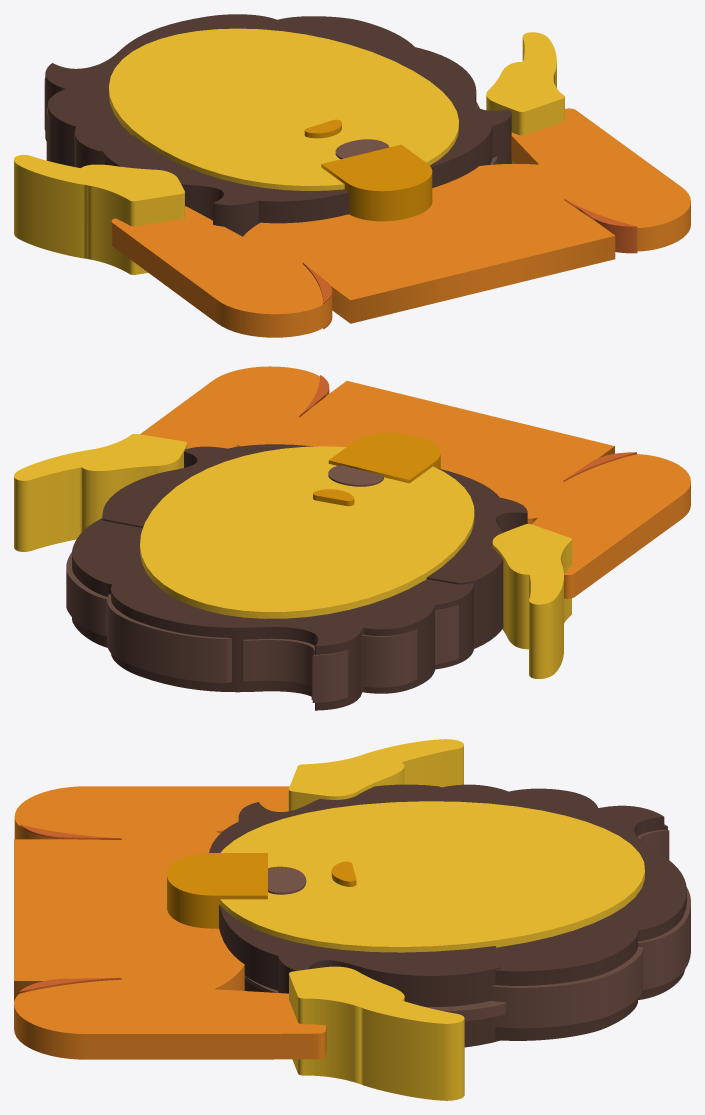
The model's file is emoji_u1f937.glb.
3 views of the same model, one above another, from view 1: azimuth 30°, elevation 25°; view 2: azimuth 150°, elevation 25°; view 3: azimuth 270°, elevation 25° (orthographic). The views are drawn at different scales.
Parts seen in each view (by area): view 1: emoji_u1f937; view 2: emoji_u1f937; view 3: emoji_u1f937.
Part boxes in pixels (left/top/right/bottom): emoji_u1f937: left=14, top=14, right=690, bottom=337; emoji_u1f937: left=14, top=366, right=690, bottom=710; emoji_u1f937: left=14, top=739, right=690, bottom=1100.
Size of the model in its own units: 0.0331 by 0.0052 by 0.0335.
